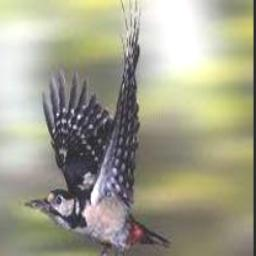Woodpecker: (25, 0, 171, 256)
